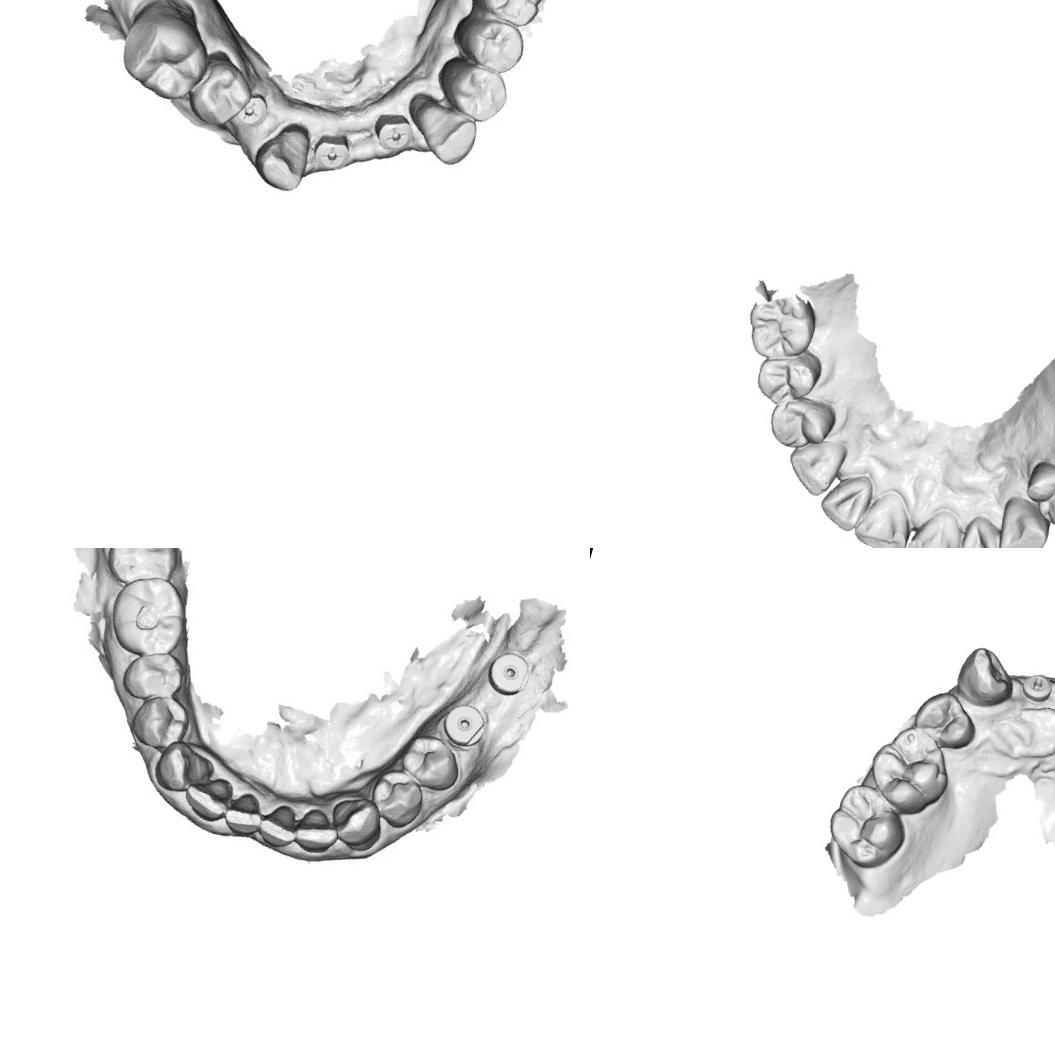canine: (399, 91, 486, 170), (246, 116, 318, 196), (949, 640, 1022, 714), (148, 734, 221, 804), (781, 428, 849, 500), (323, 790, 388, 854), (990, 493, 1055, 548)
implant: (480, 642, 535, 703), (438, 698, 488, 747)
implant_minus: (1016, 668, 1055, 706)
implant_plus: (312, 132, 358, 178), (231, 86, 275, 132), (371, 110, 416, 153)
incisor: (848, 483, 919, 548), (814, 465, 877, 536), (902, 500, 973, 548), (184, 770, 236, 826), (258, 795, 303, 847), (953, 511, 1014, 548), (294, 804, 336, 852), (224, 786, 266, 834)
molar: (109, 2, 215, 108), (859, 716, 960, 824), (818, 776, 916, 878), (734, 278, 824, 369), (103, 572, 188, 659), (104, 548, 180, 589), (456, 0, 553, 32)
premolar: (182, 48, 256, 132), (430, 55, 513, 128), (451, 8, 533, 78), (750, 340, 825, 414), (907, 684, 984, 754), (763, 388, 839, 456), (396, 729, 466, 799), (119, 645, 187, 708), (368, 766, 429, 831), (133, 692, 191, 752), (1018, 456, 1055, 530)
